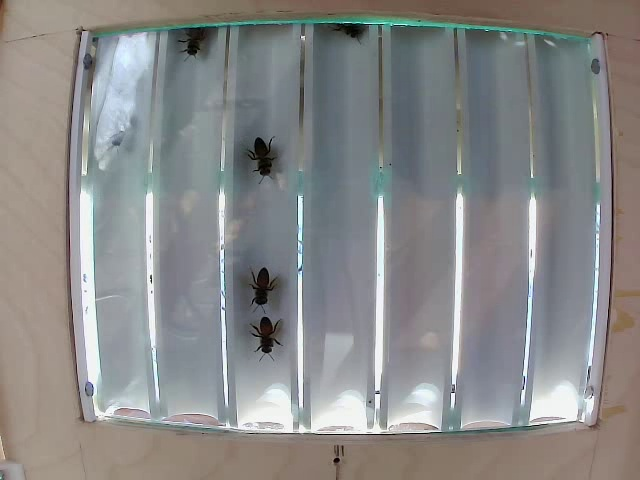bee: (243, 135, 288, 178), (181, 26, 223, 62), (252, 313, 285, 349), (249, 268, 274, 298)
